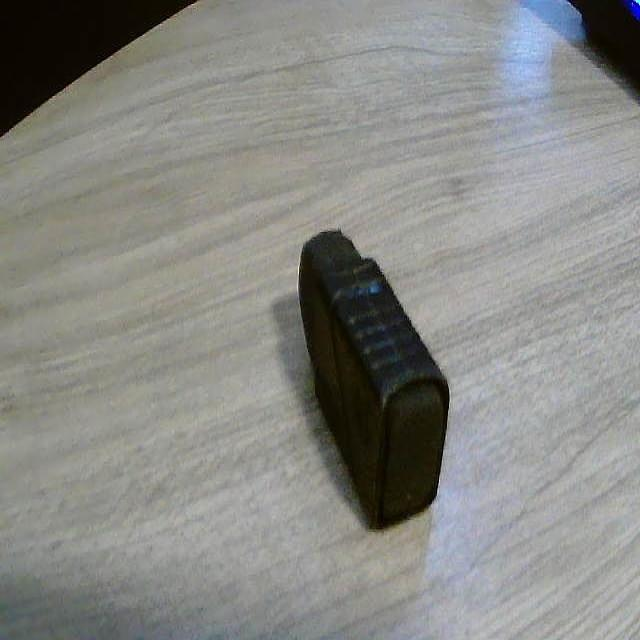borracha: (284, 197, 472, 548)
